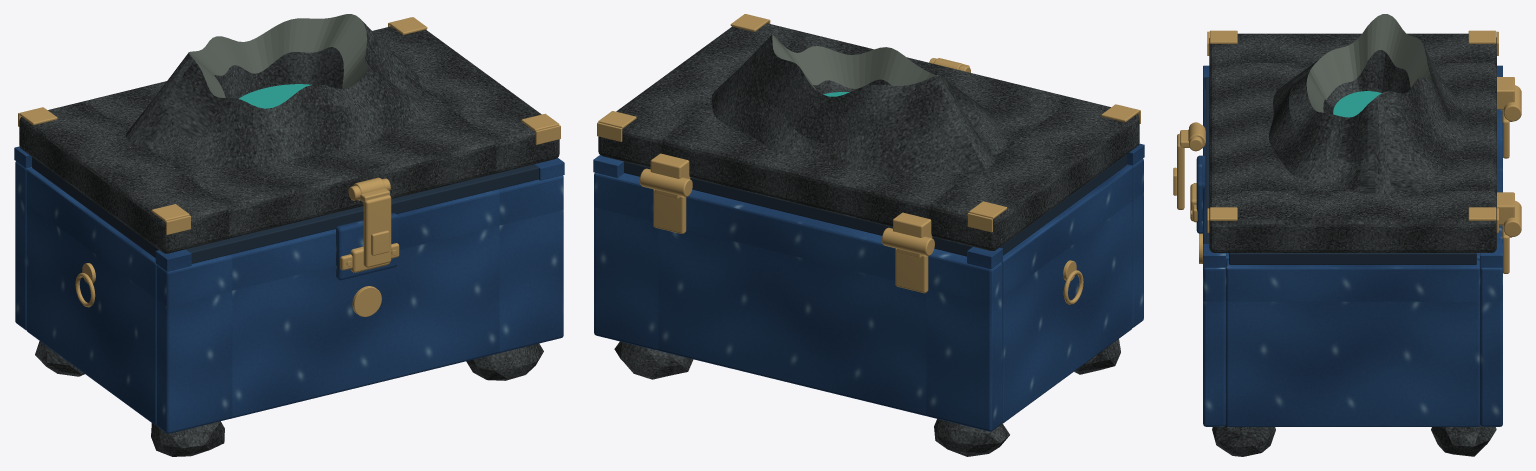
The model's file is el-salvador.glb.
3 renders of one model, left to right at view 1: azimuth 30°, elevation 25°; view 2: azimuth 150°, elevation 25°; view 3: azimuth 270°, elevation 25°, orthographic. The views are drawn at different scales.
Visible parts, largest first — view 1: Indigo / front, Lid / polished slab, Terrain / volcanic crater, Indigo / side, Mineral seam / long, Indigo / rear, Volcanic foot, Volcanic foot.002, Latch / lifting hasp, Indigo / clasp seat, Mineral seam / side, Terrain / turquoise lagoon (+3 smaller); view 2: Indigo / rear, Lid / polished slab, Terrain / volcanic crater, Indigo / side, Mineral seam / long.001, Indigo / front, Volcanic foot.001, Volcanic foot.003, Mineral seam / side, Hinge / fixed mount, Hinge / fixed mount.001, Hinge / fixed barrel.001 (+5 smaller); view 3: Indigo / side.001, Lid / polished slab, Terrain / volcanic crater, Indigo / rear, Indigo / front, Mineral seam / side.001, Volcanic foot.002, Volcanic foot.003, Terrain / turquoise lagoon, Mineral seam / long, Indigo / clasp seat, Latch / lifting hasp (+10 smaller).
Part boxes in pixels (x1,y1,x2,y2): Indigo / front: (156,175,563,433); Lid / polished slab: (19,26,559,253); Terrain / volcanic crater: (126,14,426,167); Indigo / side: (26,168,157,425); Mineral seam / long: (186,164,538,263); Indigo / rear: (15,161,31,330); Volcanic foot: (151,421,224,456); Volcanic foot.002: (466,343,543,380); Latch / lifting hasp: (363,195,391,267); Indigo / clasp seat: (336,213,397,280); Mineral seam / side: (32,157,158,257); Terrain / turquoise lagoon: (239,84,311,108); Indigo / rear: (594,172,1002,431); Lid / polished slab: (598,23,1139,250); Terrain / volcanic crater: (711,34,1007,172); Indigo / side: (1001,165,1132,423); Mineral seam / long.001: (624,161,972,256); Indigo / front: (1127,158,1143,327); Volcanic foot.001: (934,419,1009,456); Volcanic foot.003: (614,341,693,379); Mineral seam / side: (999,154,1126,255); Hinge / fixed mount: (895,248,928,293); Hinge / fixed mount.001: (653,189,686,233); Hinge / fixed barrel.001: (639,168,692,196); Indigo / side.001: (1226,260,1479,426); Lid / polished slab: (1209,33,1496,252); Terrain / volcanic crater: (1268,14,1471,194); Indigo / rear: (1480,109,1502,426); Indigo / front: (1203,89,1225,426); Mineral seam / side.001: (1229,253,1476,264); Volcanic foot.002: (1212,425,1275,456); Volcanic foot.003: (1431,425,1496,456); Terrain / turquoise lagoon: (1333,91,1381,117); Mineral seam / long: (1205,77,1209,243); Indigo / clasp seat: (1196,155,1205,233); Latch / lifting hasp: (1177,133,1184,209).
Bounding box in the file's own units: 3.79 × 2.96 × 2.88.
6 materials, 2 textured.
